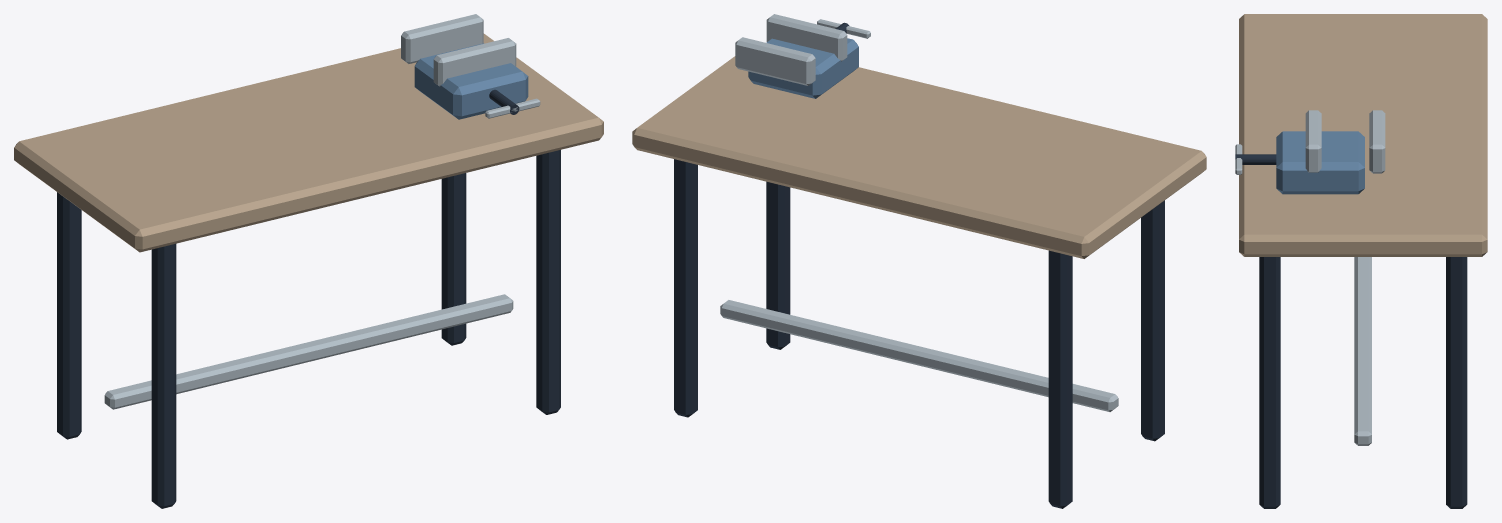
Rendered from logistics_08.glb.
3 renders of one model, left to right at view 1: azimuth 30°, elevation 25°; view 2: azimuth 150°, elevation 25°; view 3: azimuth 270°, elevation 25°, orthographic. The views are drawn at different scales.
Parts seen in each view (by area): view 1: TableTop, Leg (×4), LowerBrace, ViseJaw (×2), ViseBase; view 2: TableTop, Leg (×4), LowerBrace, ViseJaw (×2), ViseBase; view 3: TableTop, Leg (×2), ViseBase, LowerBrace, ViseJaw (×2), ViseScrew.
Part boxes in pixels (<box>): TableTop: <box>14,33,603,252</box>; Leg (×4): <box>57,150,560,508</box>; LowerBrace: <box>104,294,513,409</box>; ViseJaw (×2): <box>401,14,516,86</box>; ViseBase: <box>414,43,528,119</box>; TableTop: <box>632,56,1206,258</box>; Leg (×4): <box>674,159,1164,508</box>; LowerBrace: <box>720,300,1118,411</box>; ViseJaw (×2): <box>735,14,847,85</box>; ViseBase: <box>748,38,858,98</box>; TableTop: <box>1239,14,1487,256</box>; Leg (×2): <box>1259,257,1467,508</box>; ViseBase: <box>1276,131,1364,194</box>; LowerBrace: <box>1354,257,1371,445</box>; ViseJaw (×2): <box>1305,110,1385,173</box>; ViseScrew: <box>1235,154,1276,164</box>.
Size of the model in its own units: 1.5 by 1.1 by 0.71.
